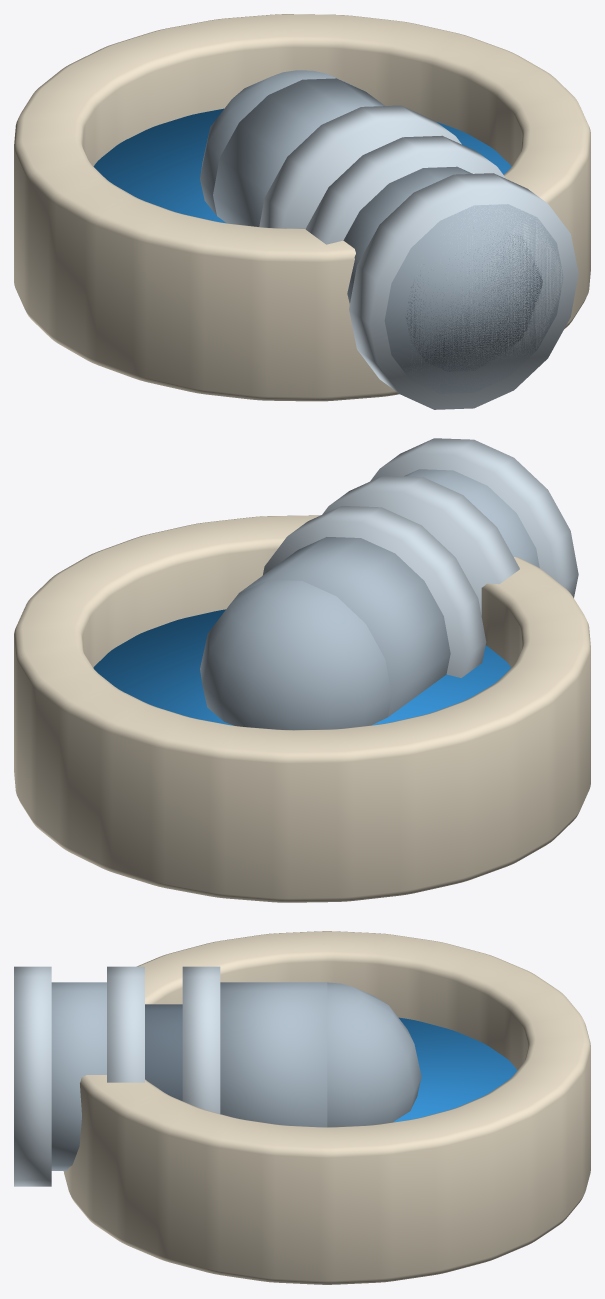
File: drain_pool.glb
3 renders of one model, top to bottom at view 1: azimuth 30°, elevation 25°; view 2: azimuth 150°, elevation 25°; view 3: azimuth 270°, elevation 25°, orthographic. The views are drawn at different scales.
Visible parts, largest first — view 1: Pool_Rim, Pool_Shell, Pool_Collar, Pool_Water, Pool_Water_Tube; view 2: Pool_Rim, Pool_Shell, Pool_Collar, Pool_Water; view 3: Pool_Rim, Pool_Shell, Pool_Collar, Pool_Water, Pool_Water_Tube.
Boxes of the visible parts, <box> form: Pool_Rim: <box>14,14,590,401</box>; Pool_Shell: <box>200,70,563,393</box>; Pool_Collar: <box>259,105,578,409</box>; Pool_Water: <box>93,108,511,223</box>; Pool_Water_Tube: <box>406,233,542,371</box>; Pool_Rim: <box>14,515,590,902</box>; Pool_Shell: <box>200,469,539,730</box>; Pool_Collar: <box>262,438,578,677</box>; Pool_Water: <box>93,609,510,725</box>; Pool_Rim: <box>63,931,590,1284</box>; Pool_Shell: <box>51,982,421,1170</box>; Pool_Collar: <box>14,966,220,1186</box>; Pool_Water: <box>393,1017,517,1122</box>; Pool_Water_Tube: <box>145,1004,182,1100</box>.
Bounding box in the file's own units: 0.8384 × 0.35 × 0.9172.
